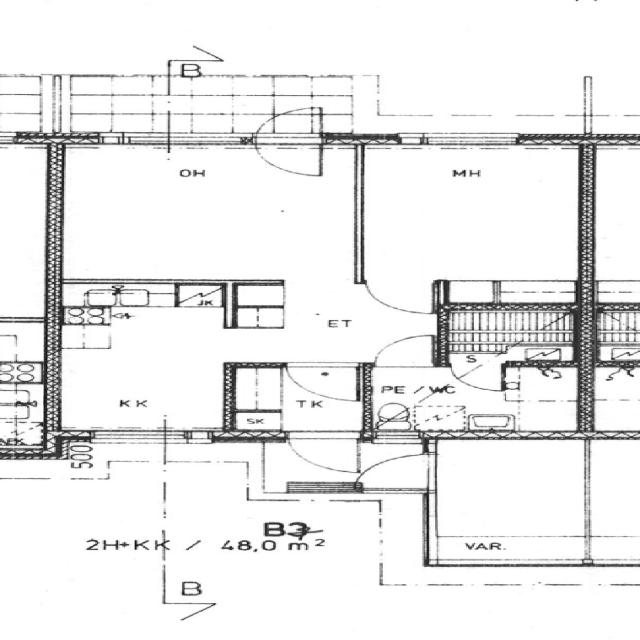door: (248, 104, 331, 181), (281, 430, 362, 475), (352, 451, 436, 494), (280, 360, 363, 402), (356, 277, 443, 315), (366, 332, 440, 371), (444, 362, 512, 392)
window: (392, 132, 530, 151), (76, 426, 182, 447), (277, 481, 350, 498)
zone: (54, 144, 356, 283), (350, 143, 590, 300), (49, 286, 233, 438), (429, 434, 592, 567), (352, 364, 588, 437), (0, 0, 207, 75), (229, 369, 360, 437), (446, 305, 585, 354), (503, 358, 587, 431), (0, 317, 55, 388)
